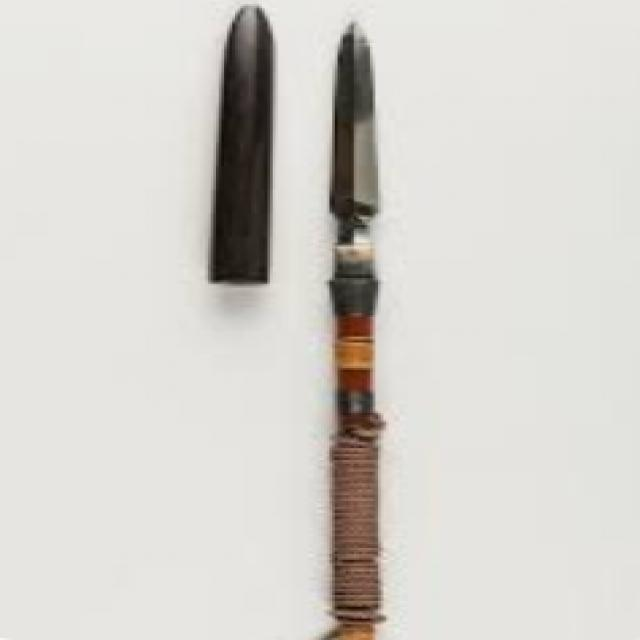spear: (303, 6, 386, 629)
